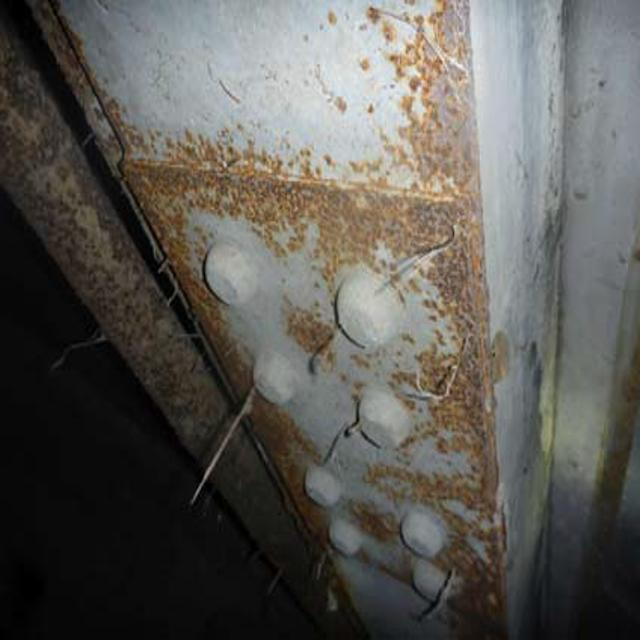corrosion: (36, 33, 511, 621)
